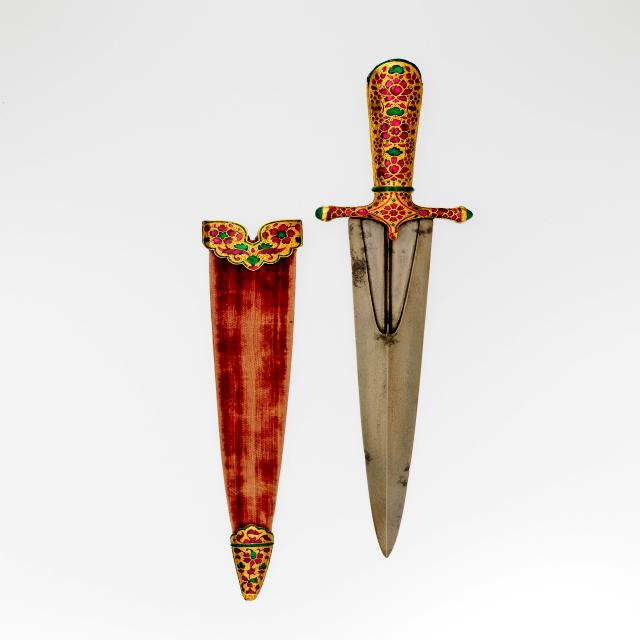short sword: (185, 44, 474, 606)
